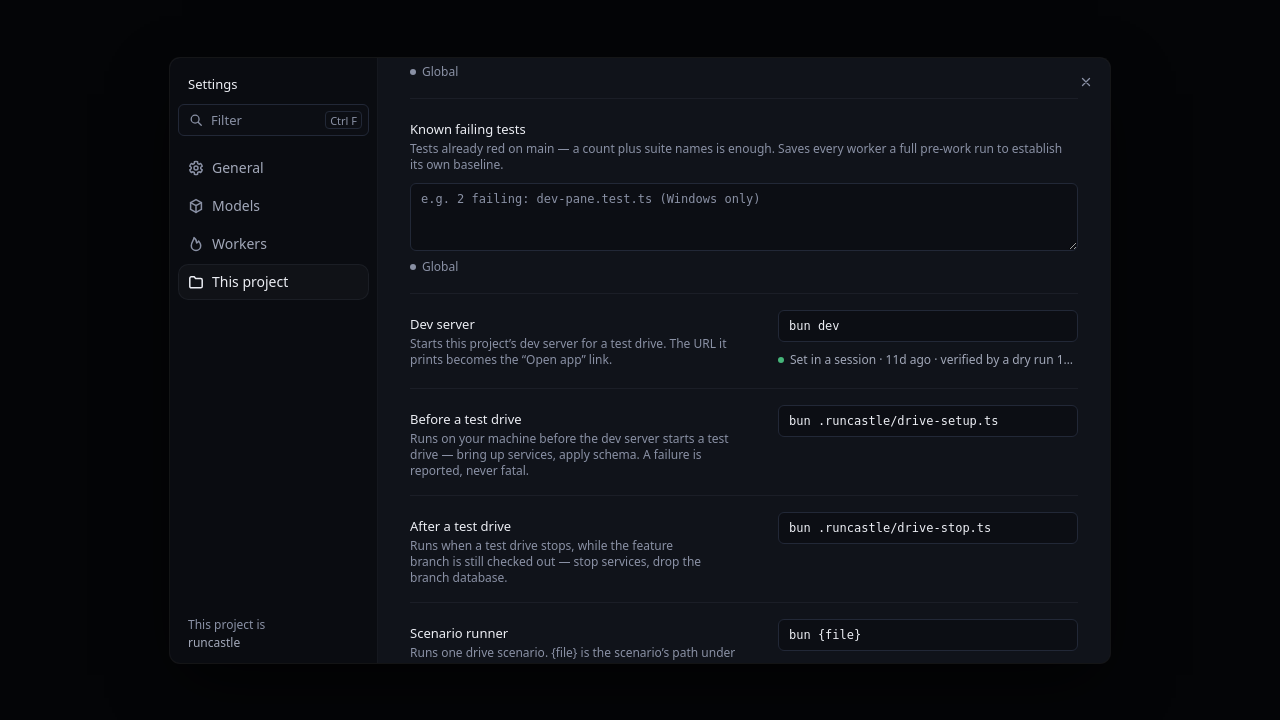
it: Settings — This project › closes the evidence on a click outside it
The width and height of the screenshot is (1280, 720).
(page scrolled)
Click the button "Set in a session · 11d ago · verified by a dry run 10d ago".
click(928, 360)  # box 772,348 -> 1084,372
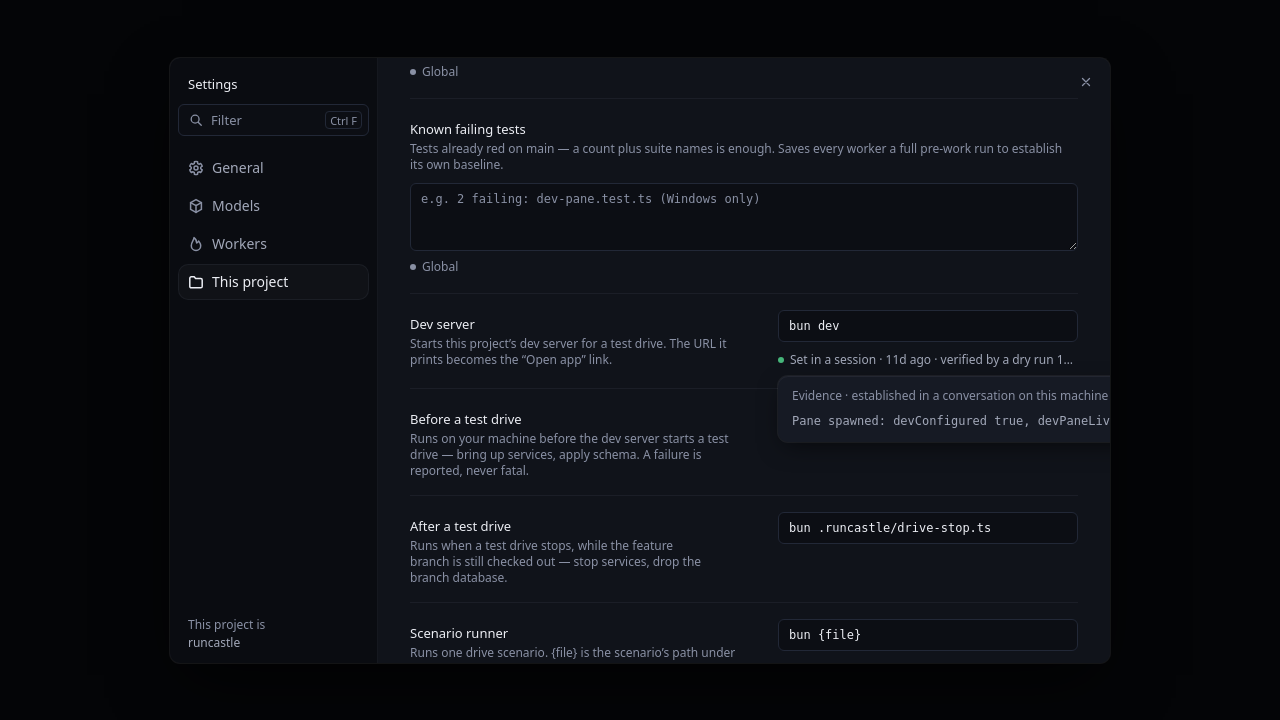
Check: the heading "Evidence · established in a conversation on this machine" is shown, box 792,387 -> 1108,404
Press the mouse on the element that starts with "Settings" at x=640, y=360, box 0,0 -> 1279,719
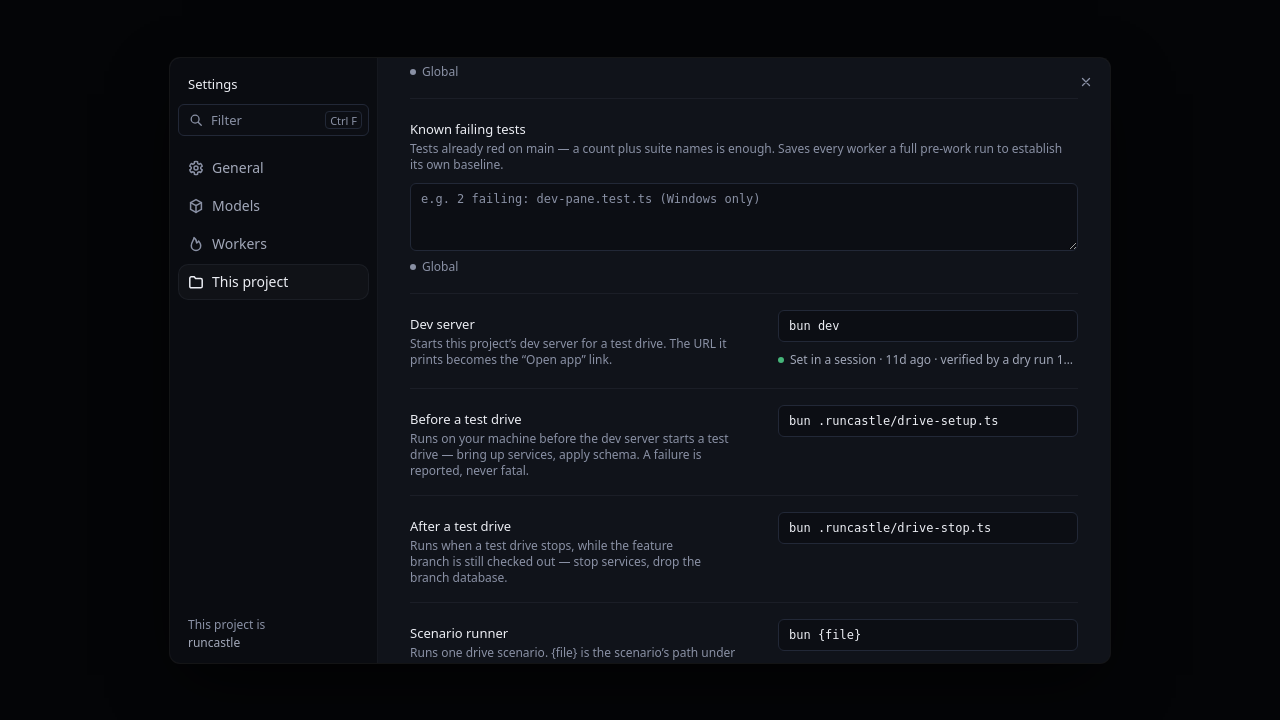
Check: the heading "Evidence ·" is gone
